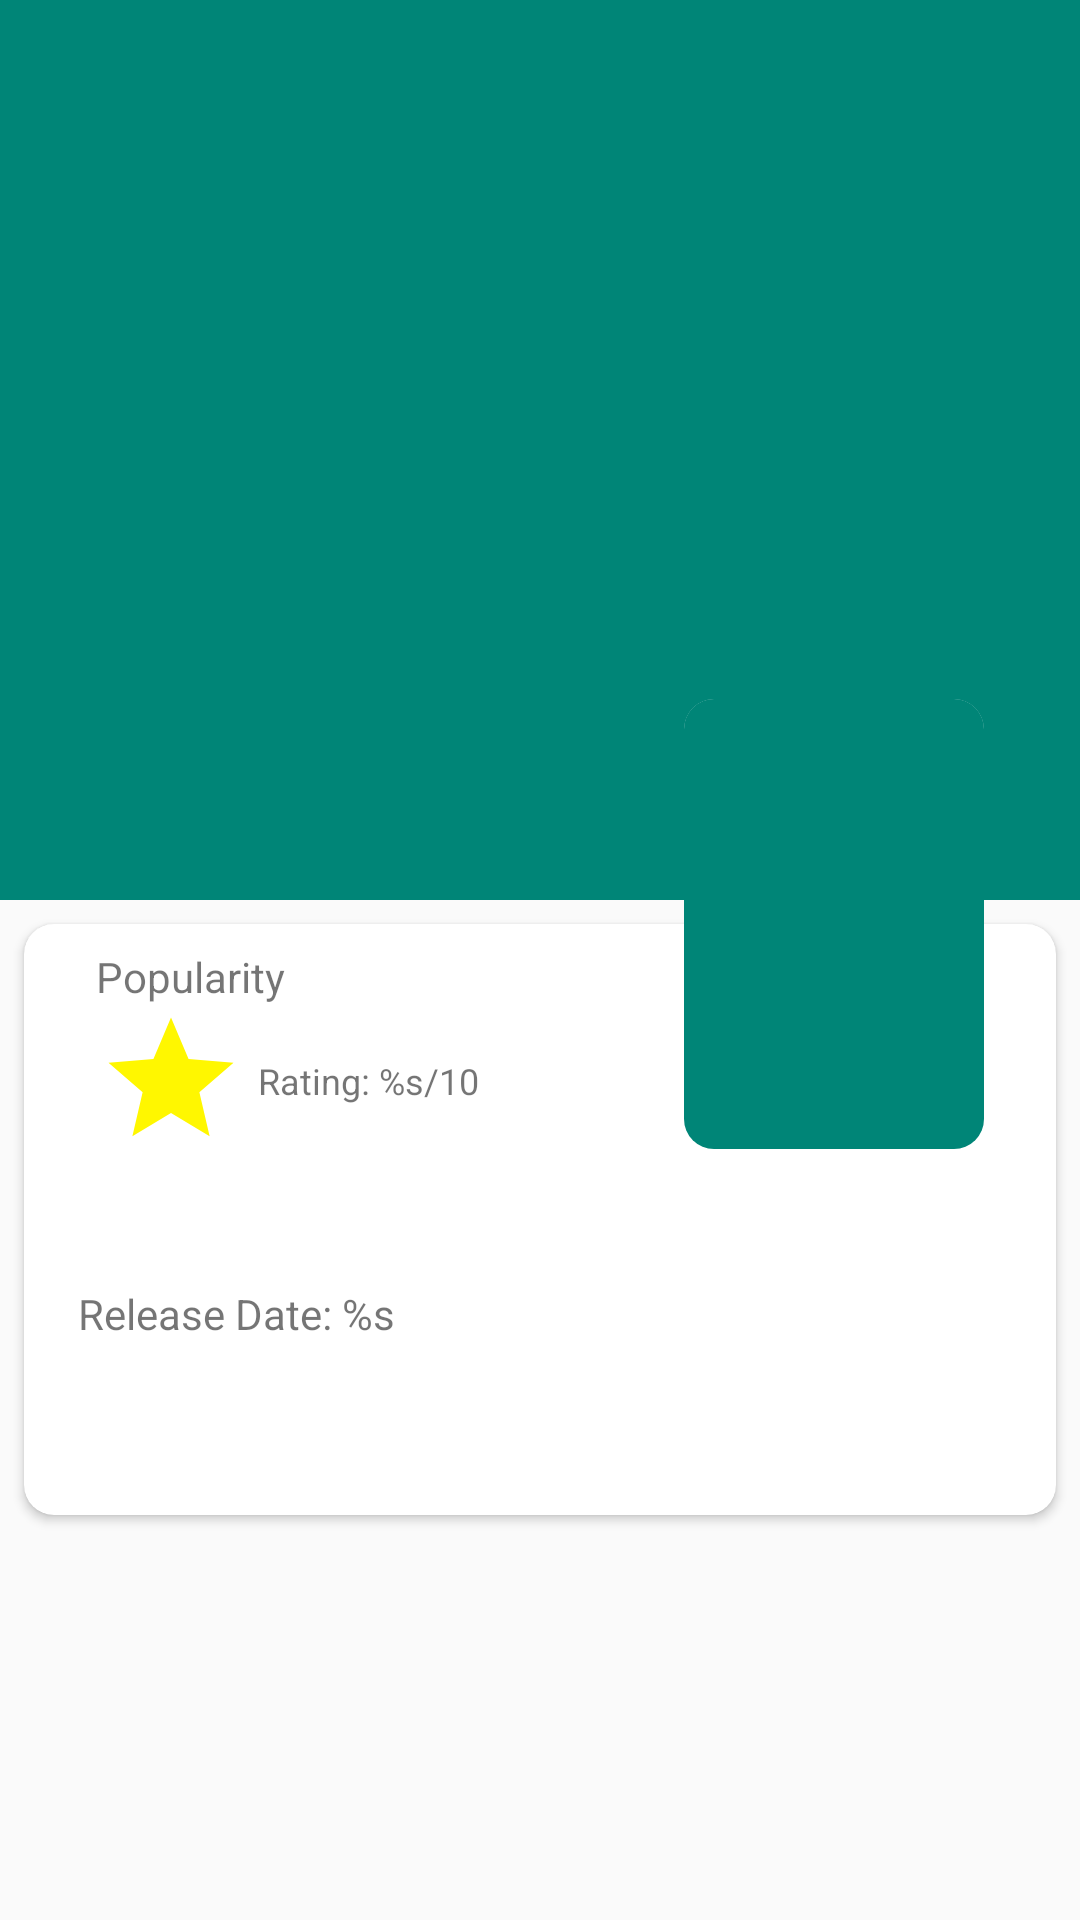

Icons on this 1080px×1920px Android screen, each with the point to tap as (x=x, y=y):
star: (x=171, y=1077)
